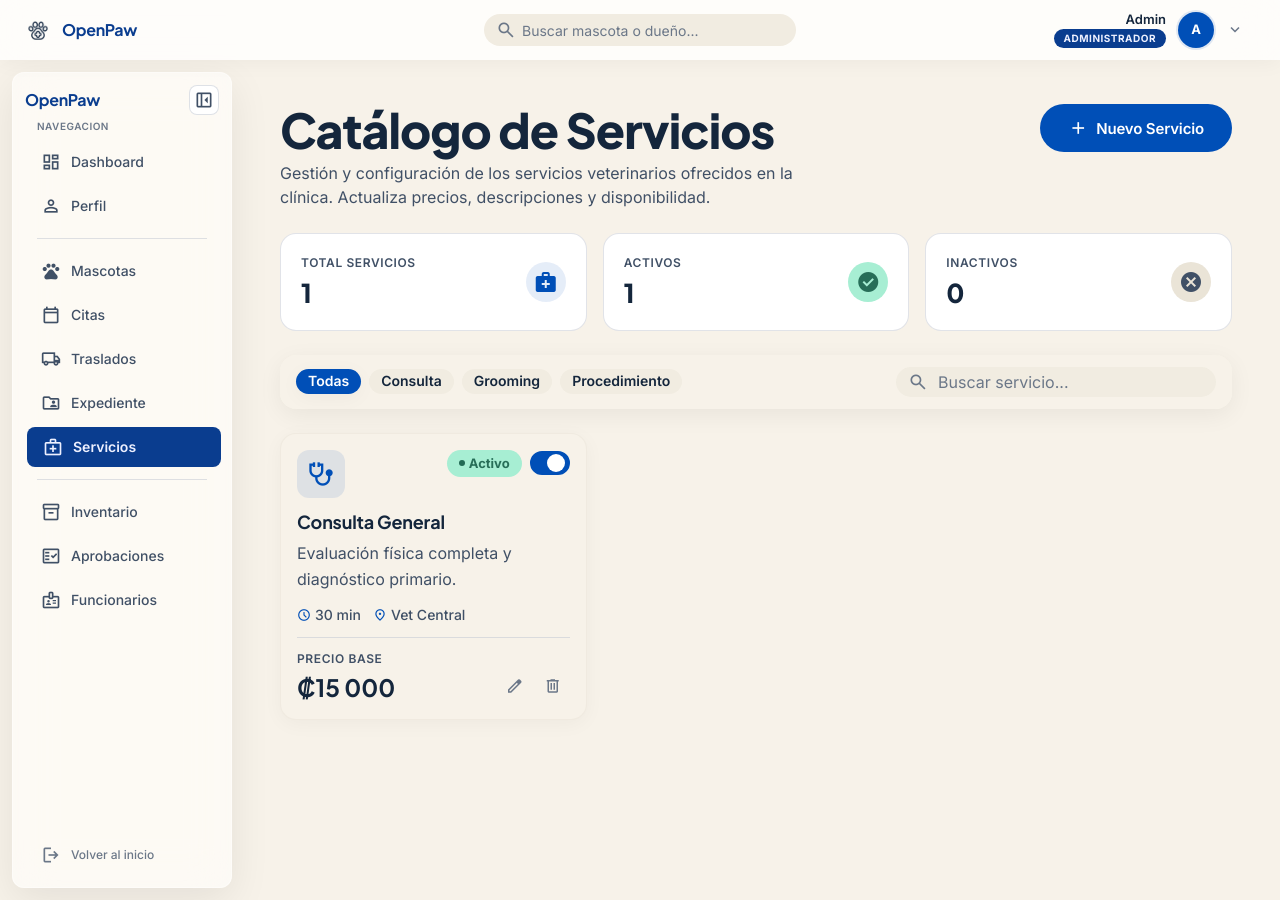
Test: ServiciosVeterinariaPage - rediseno catalogo con grid, toggle y busqueda (T31) › toggle inline desactiva el servicio con PUT (payload completo) y actualiza el badge
Step 1. Click the switch named "Desactivar Consulta General" → coordinates (550, 463), box x1=530 y1=451 x2=570 y2=475
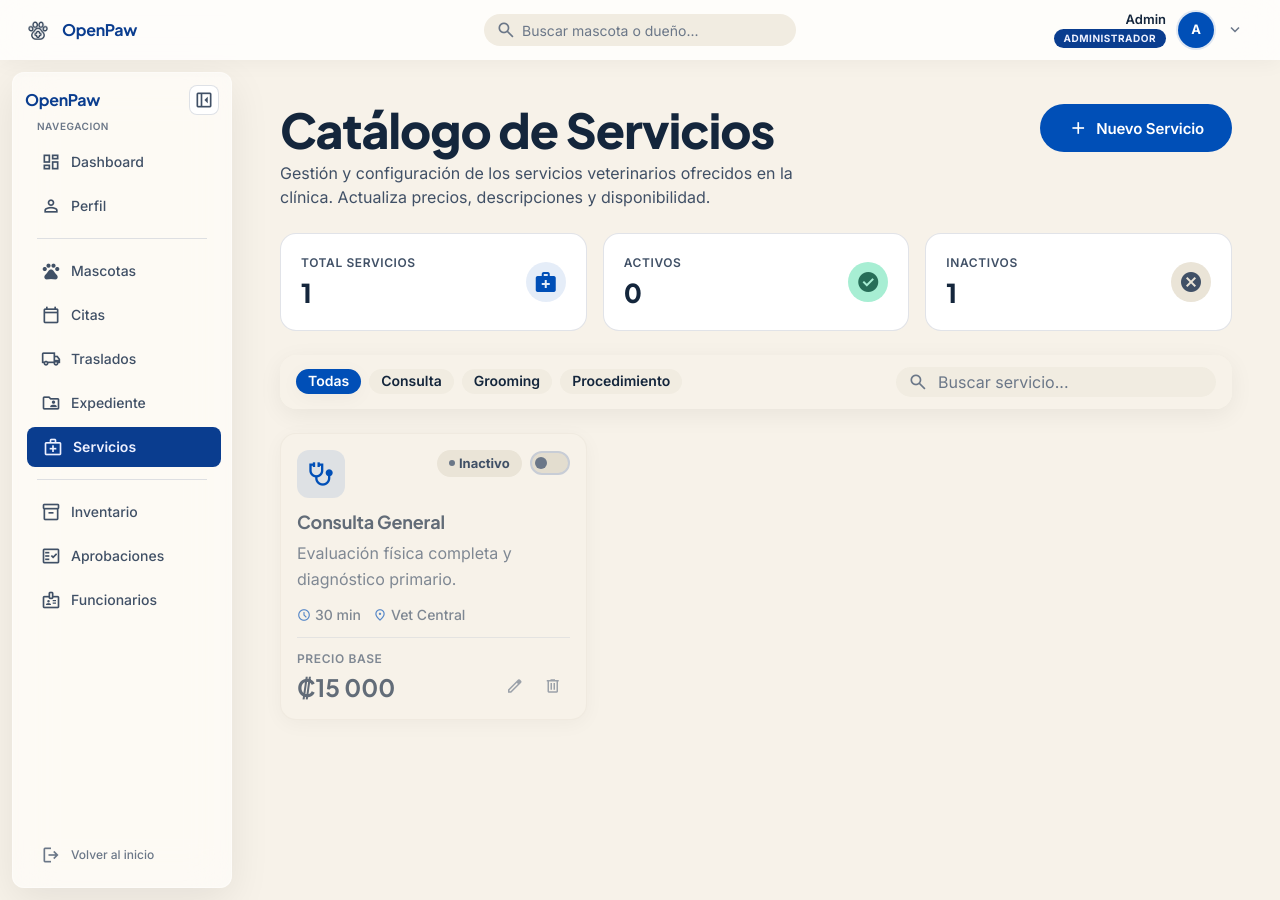
Now the switch named "Activar Consulta General" is not checked, box x1=530 y1=451 x2=570 y2=475
Now the text "Inactivo" is shown, box x1=437 y1=450 x2=522 y2=477
